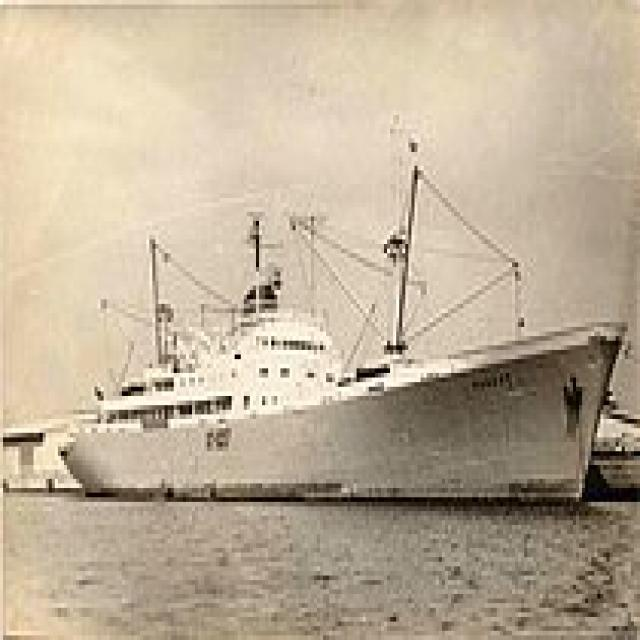Ship: (50, 103, 632, 522)
